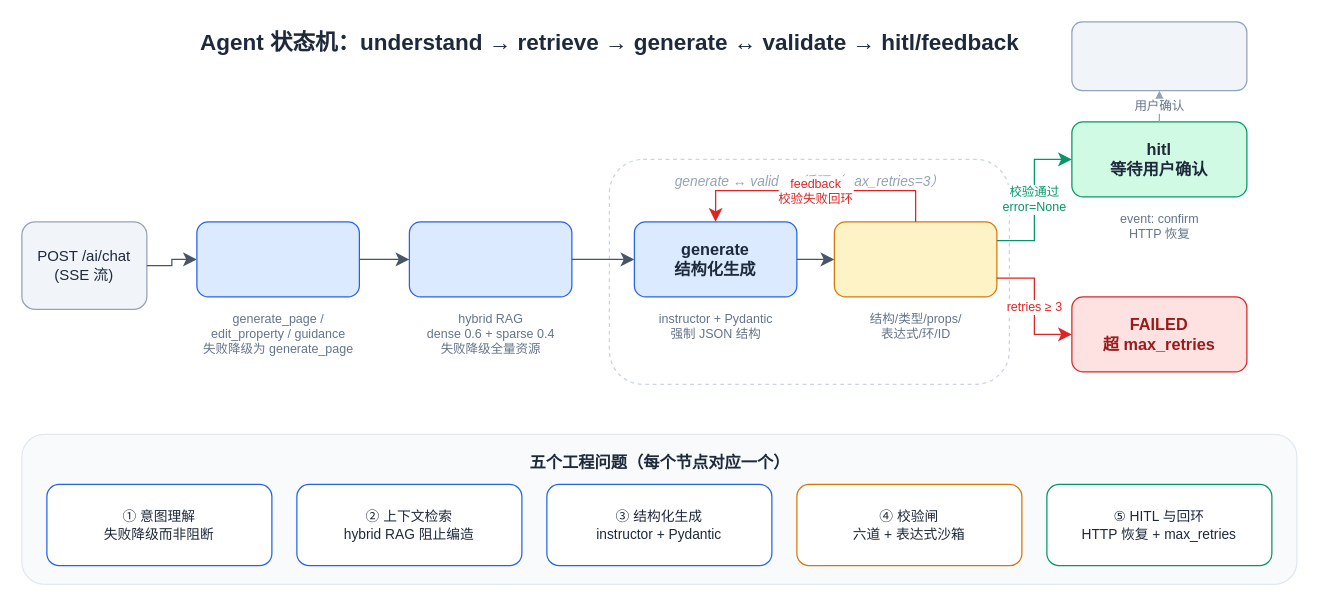
The diagram is 1319 pixels wide and 606 high, and some of its shapes have lost their labels. The box of each missing label's shape, as (x1, y1, x2, y2) in pixels:
APPLIED 落画布: (1071, 21, 1247, 91)
retrieve 上下文检索: (408, 221, 572, 297)
understand 意图分类: (196, 221, 359, 297)
validate 六道校验闸: (833, 221, 997, 297)
